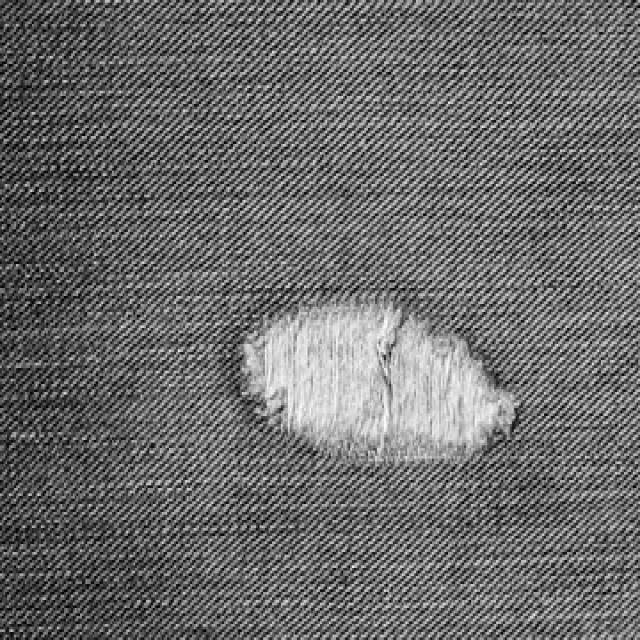Hole: (242, 299, 515, 462)
